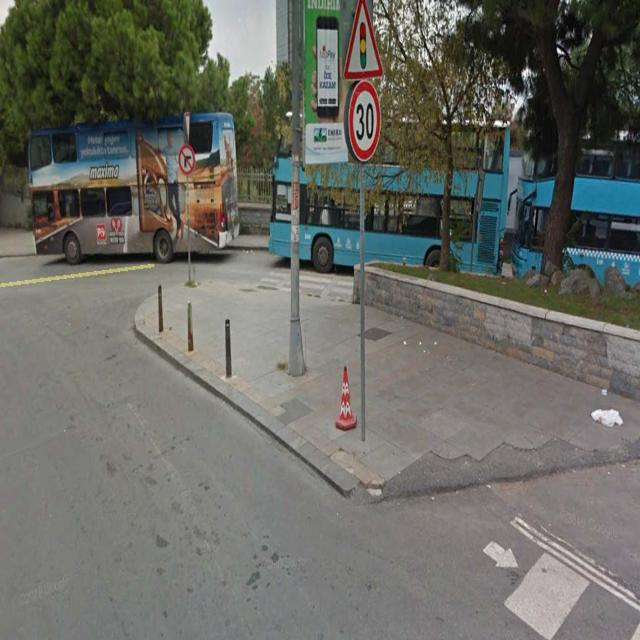30: (348, 81, 382, 163)
sagadonulmez: (178, 144, 196, 175)
